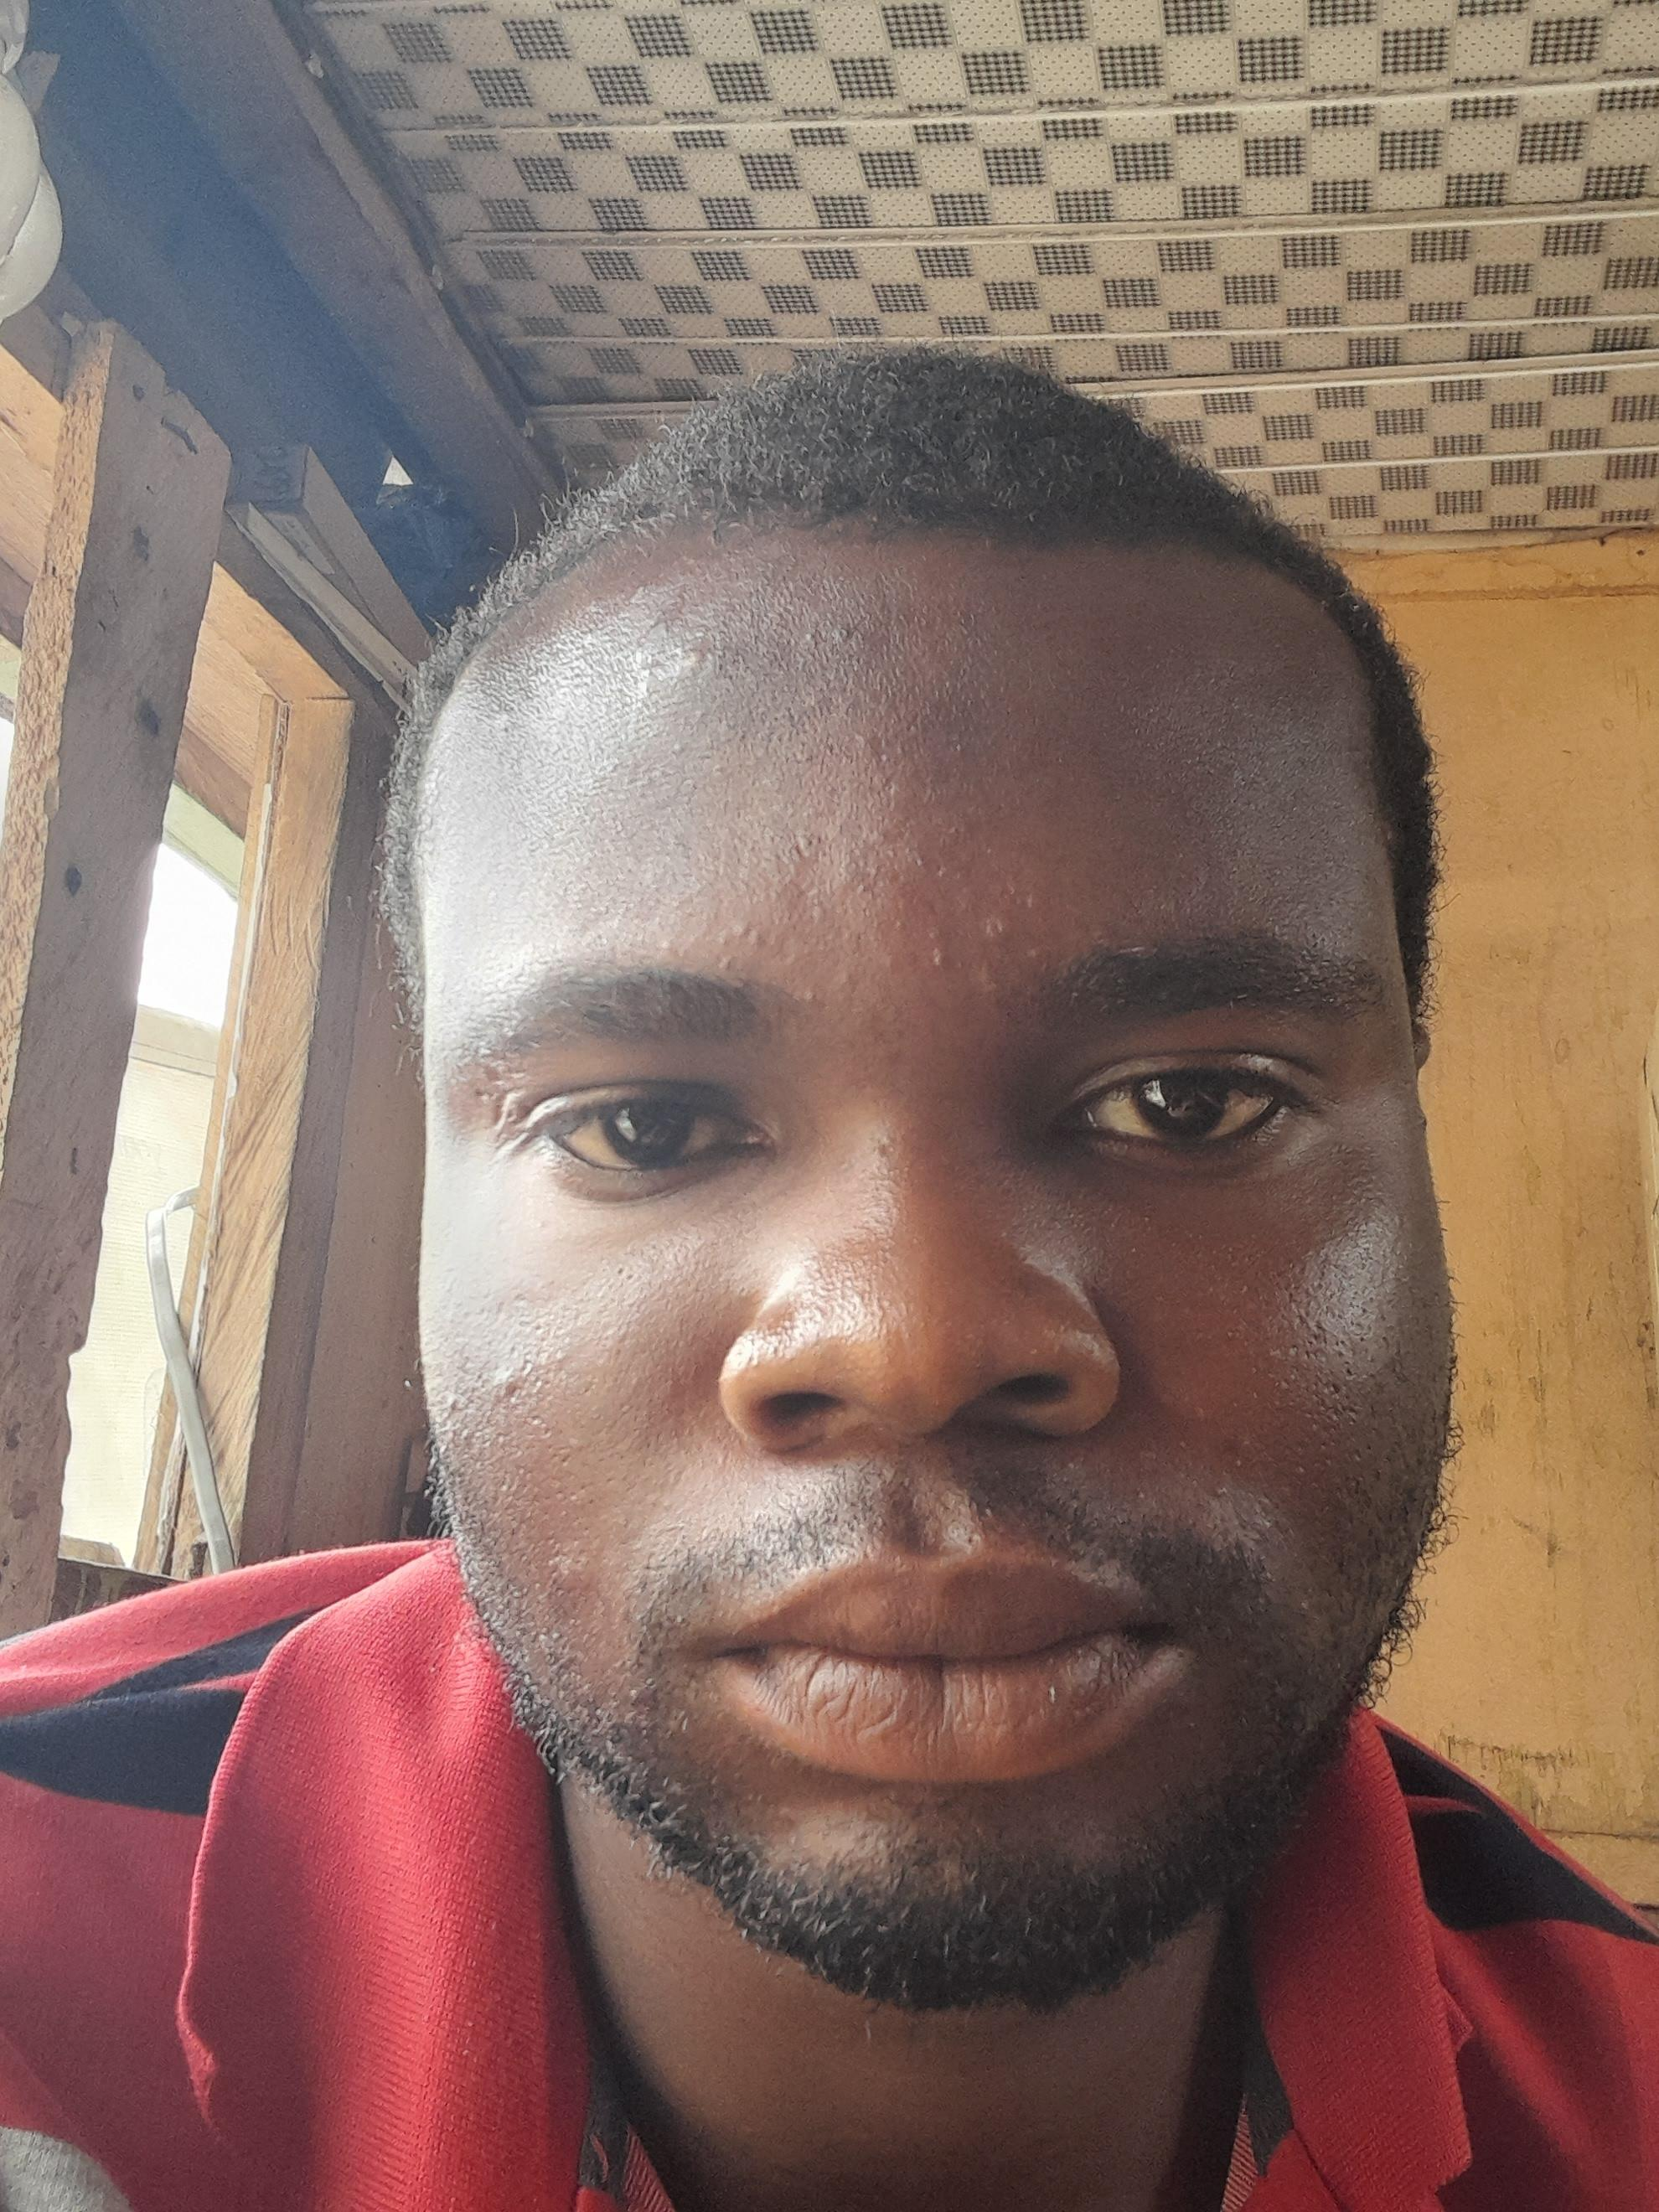Acne: (800, 620, 852, 653), (488, 1364, 525, 1402), (1215, 1432, 1251, 1468), (979, 913, 1014, 942), (730, 918, 767, 946), (674, 643, 709, 671), (922, 944, 955, 970), (775, 1797, 798, 1831)
Englarged-Pores: (430, 1287, 575, 1498), (1255, 1263, 1396, 1456), (1147, 1226, 1290, 1306), (601, 1231, 711, 1310)
